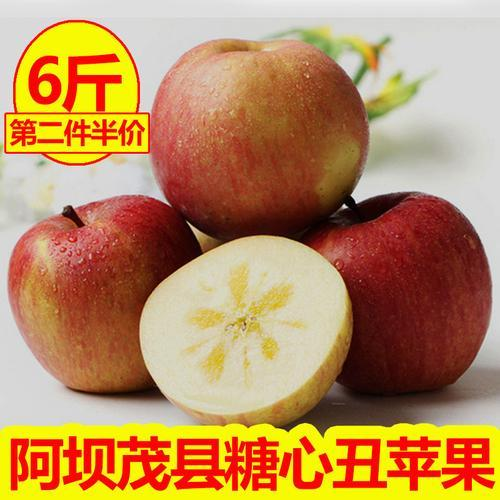apple: (24, 120, 474, 423), (157, 38, 374, 246), (200, 225, 414, 424), (97, 226, 293, 429), (6, 210, 202, 408), (298, 206, 493, 405)
